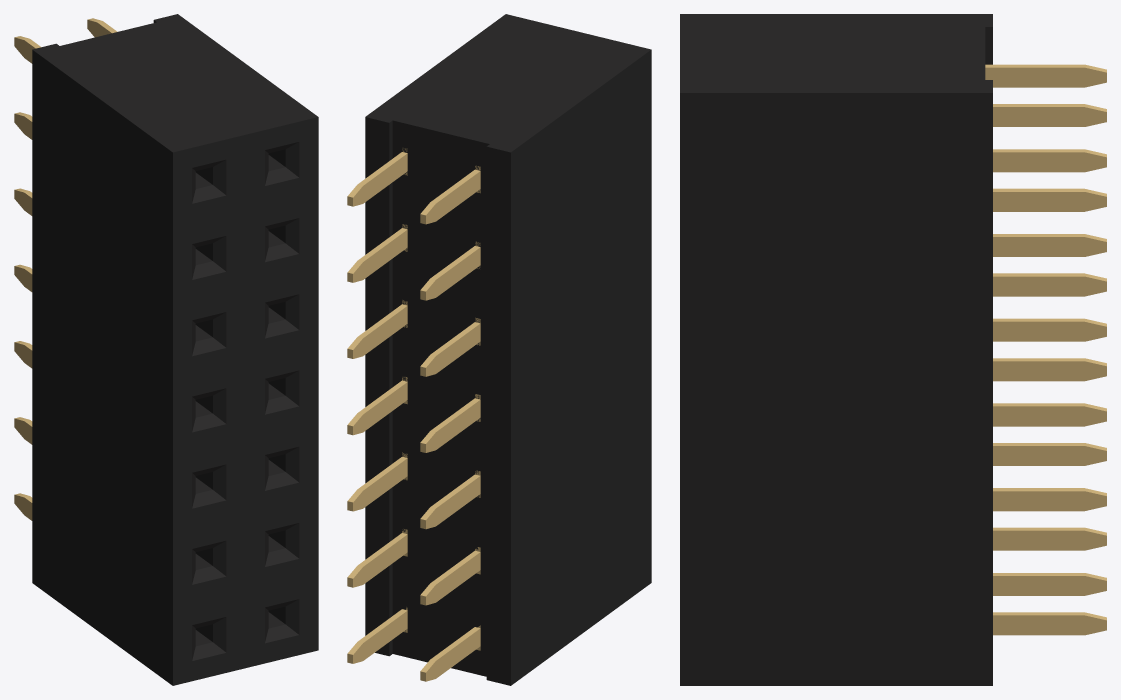
Rendered from socket-2x07.glb.
3 views of the same model, side by side, from view 1: azimuth 30°, elevation 25°; view 2: azimuth 150°, elevation 25°; view 3: azimuth 270°, elevation 25° (orthographic). The views are drawn at different scales.
Visible parts, largest first — view 1: IC-BODY-EPOXY-04, PIN-02; view 2: IC-BODY-EPOXY-04, PIN-02 (×9); view 3: IC-BODY-EPOXY-04, PIN-02 (×9).
Boxes of the visible parts, x1,y1,x2,y2 form: IC-BODY-EPOXY-04: (32,14,318,685); PIN-02: (14,18,117,520); IC-BODY-EPOXY-04: (365,14,651,685); PIN-02 (×9): (347,148,480,681); IC-BODY-EPOXY-04: (680,14,992,685); PIN-02 (×9): (985,64,1106,635).
Bounding box in the file's own units: 5.08 × 17.78 × 11.6.
